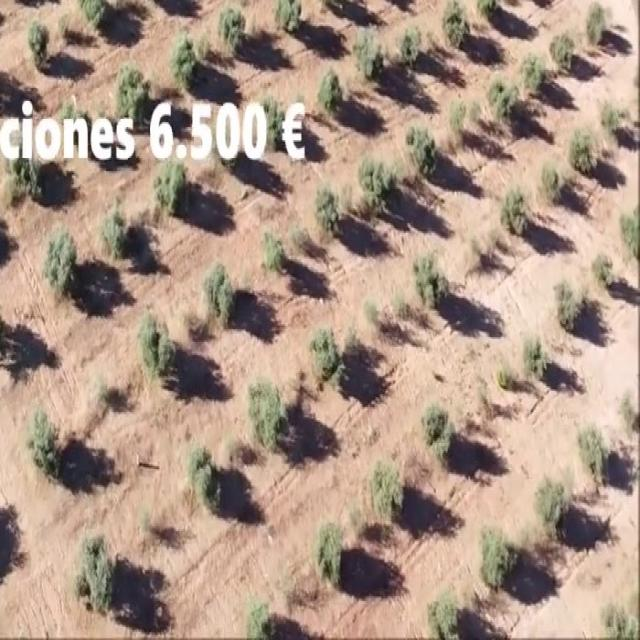trees: (73, 532, 117, 604), (198, 255, 241, 328), (244, 378, 283, 456), (479, 520, 516, 591), (140, 314, 178, 379), (362, 151, 398, 217), (246, 584, 288, 640), (579, 417, 615, 482), (115, 64, 152, 126), (411, 248, 446, 308), (215, 1, 251, 59), (29, 403, 60, 470), (418, 401, 453, 458), (408, 117, 442, 174), (352, 26, 387, 81), (314, 524, 349, 578), (192, 448, 224, 506), (158, 154, 194, 205), (542, 474, 572, 534), (484, 68, 515, 126), (100, 193, 129, 255), (430, 593, 468, 640), (369, 464, 401, 519), (311, 323, 342, 379), (394, 20, 428, 70), (439, 0, 470, 53), (548, 30, 581, 77), (318, 173, 346, 228), (559, 274, 584, 334), (503, 182, 532, 232), (49, 231, 74, 289), (520, 334, 550, 382), (520, 46, 547, 96), (566, 134, 593, 182), (584, 4, 610, 49), (173, 37, 200, 80), (273, 0, 306, 33), (265, 232, 289, 277), (27, 18, 48, 69), (595, 248, 620, 284), (321, 71, 343, 109), (598, 109, 615, 138)
